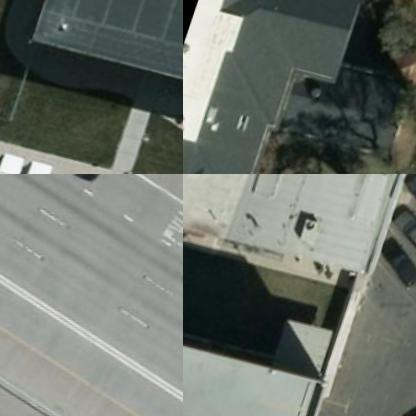car: (372, 233, 415, 287), (383, 202, 415, 256), (12, 153, 58, 173), (395, 174, 415, 220), (0, 146, 29, 173)
